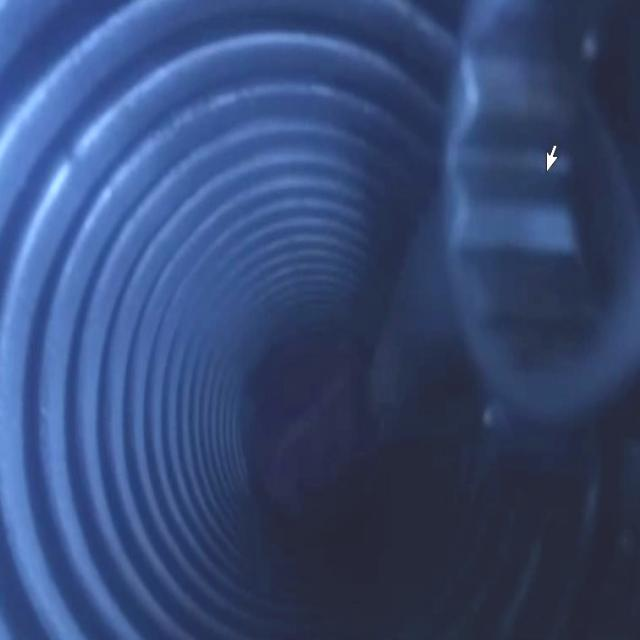metal piece: (440, 0, 640, 412)
